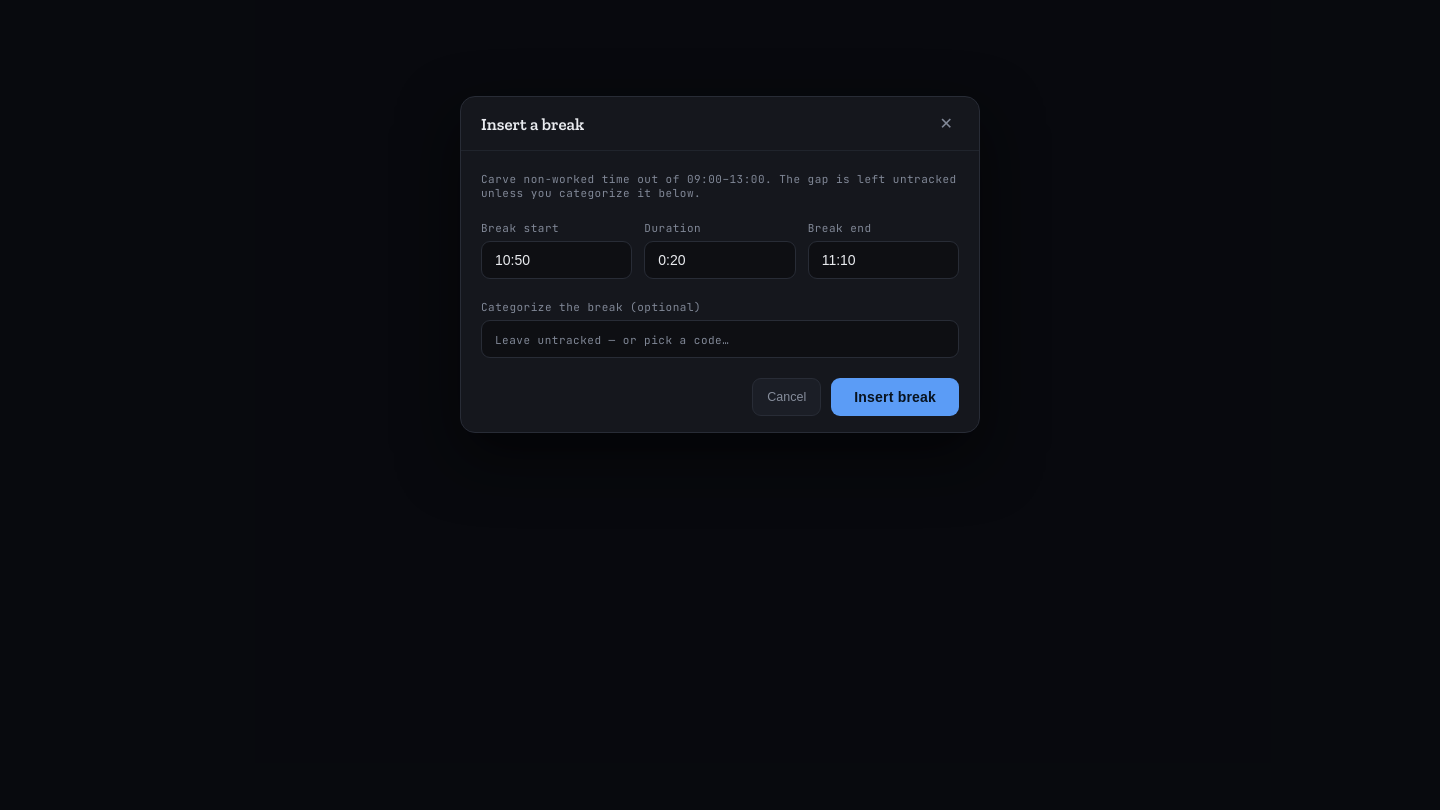
BreakModal (BIZ-076) › rejects a break that falls outside the entry
Replace the text in the field with placeholder "1200" with "0800". click: (557, 260)
box: [481,241,632,279]
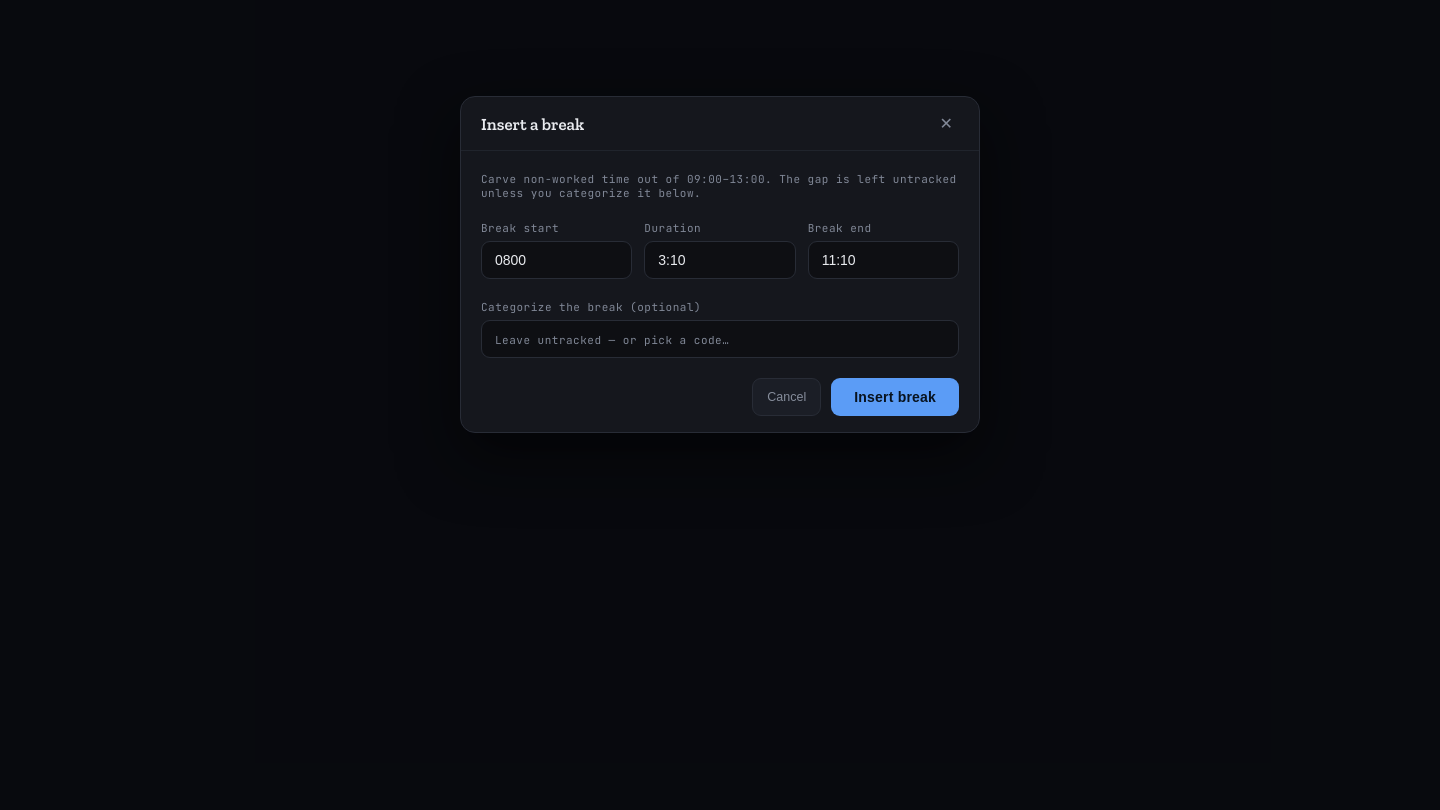
Replace the text in the field with placeholder "1220" with "0820". click: (883, 260)
box: [808,241,959,279]
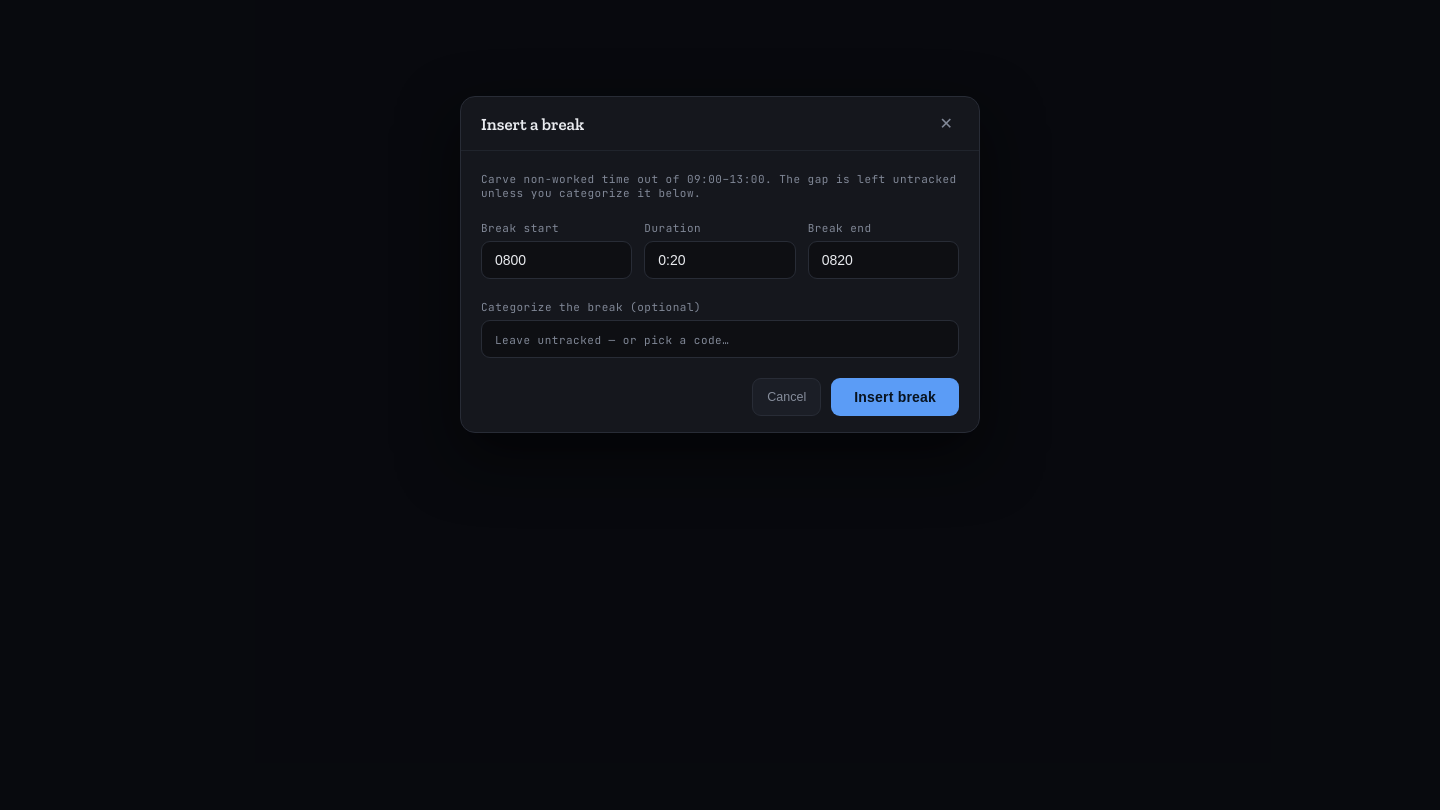
Click the button "Insert break". click: (895, 397)
box: [831,378,959,416]
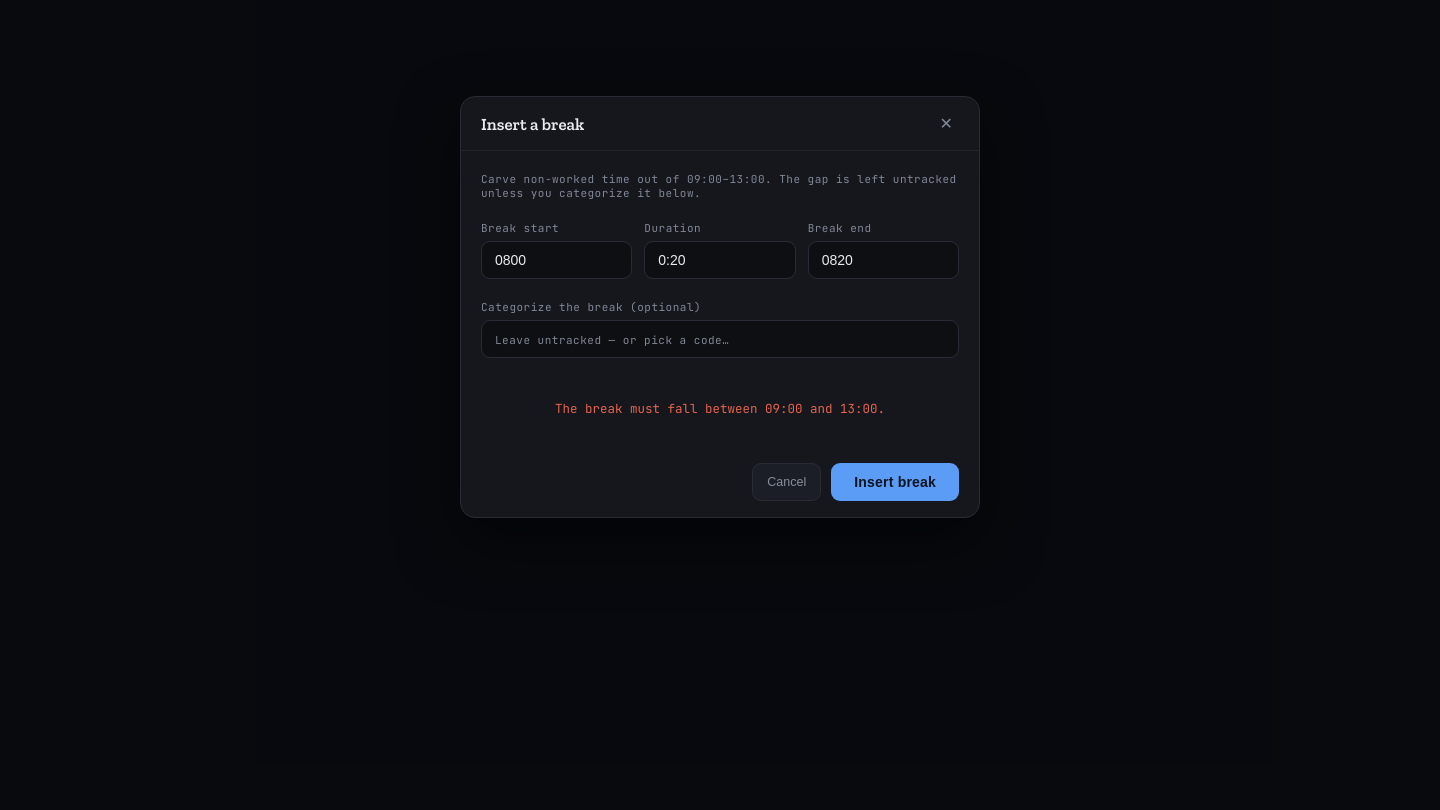
Check: the text "The break must fall between 09:00 and 13:00." is shown, box [555,400,885,417]
